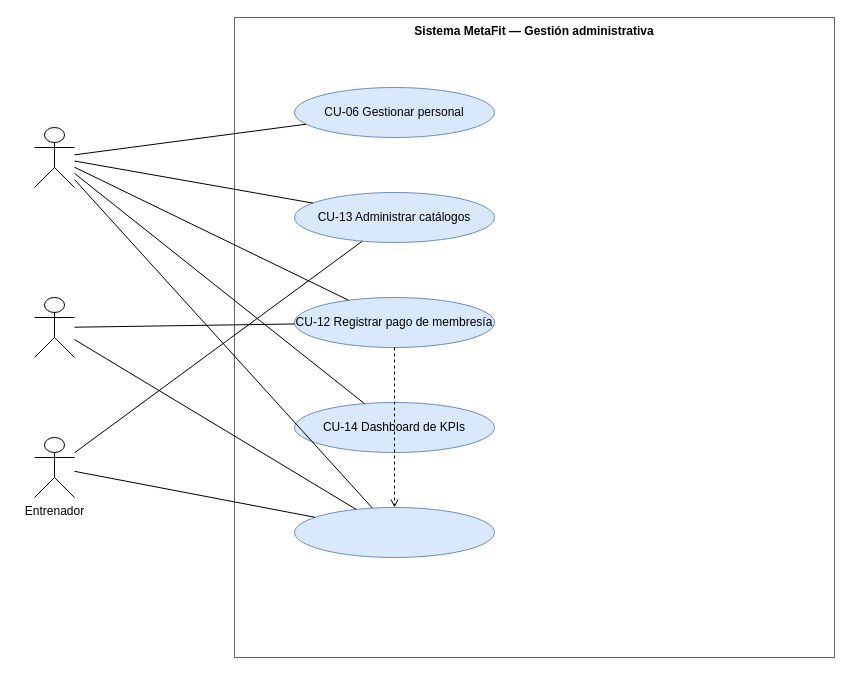
Image size: 852x675. Some labels were removed from this diagram. The centre of each missing label's shape, as x and y in pixels:
"Administrador" belongs at [54,157].
"CU-15 Notificaciones" belongs at [394,532].
"Recepcionista" belongs at [54,327].
